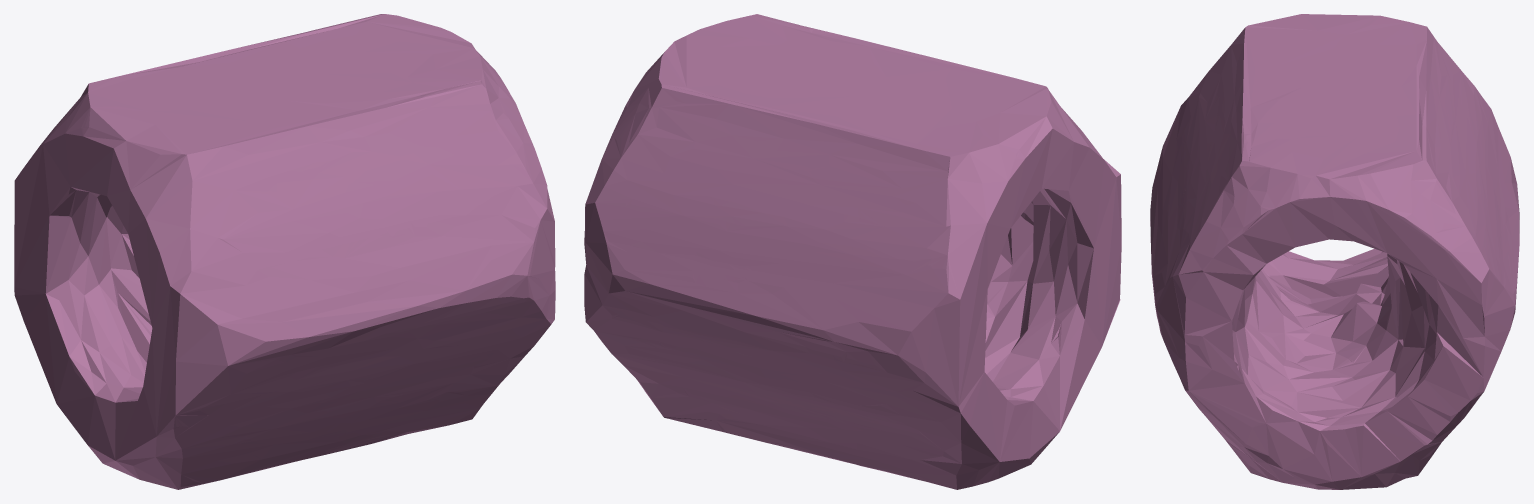
The model's file is valve-6.glb.
3 renders of one model, left to right at view 1: azimuth 30°, elevation 25°; view 2: azimuth 150°, elevation 25°; view 3: azimuth 270°, elevation 25°, orthographic. The views are drawn at different scales.
Visible parts, largest first — view 1: part_06; view 2: part_06; view 3: part_06.
Part boxes in pixels (box(x1,y1,x2,y2)): part_06: box(14, 14, 555, 489); part_06: box(584, 14, 1121, 489); part_06: box(1150, 14, 1519, 489).
Bounding box in the file's own units: 0.3397 × 0.2872 × 0.3043.
